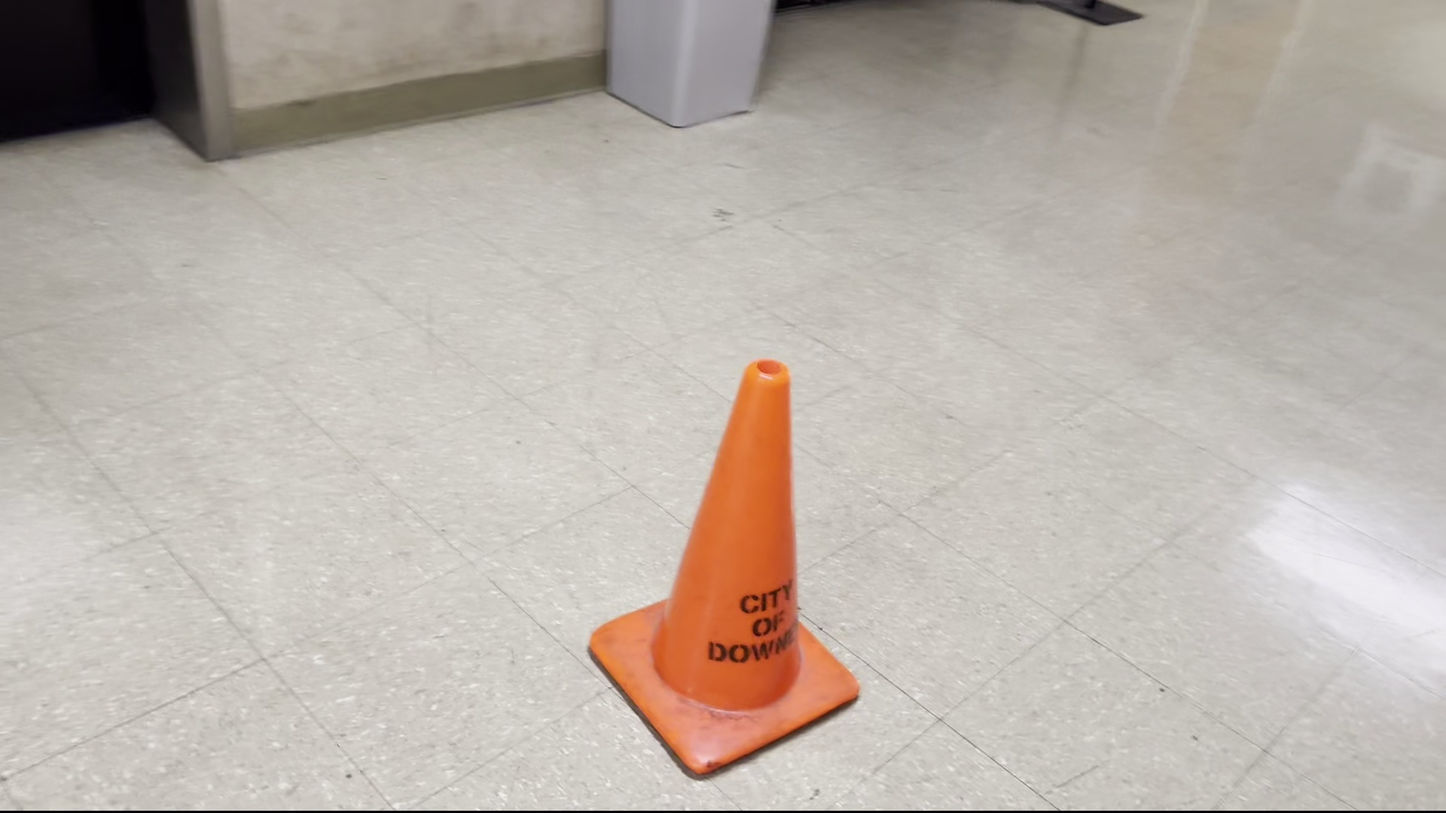traffic_cone: (587, 358, 861, 780)
